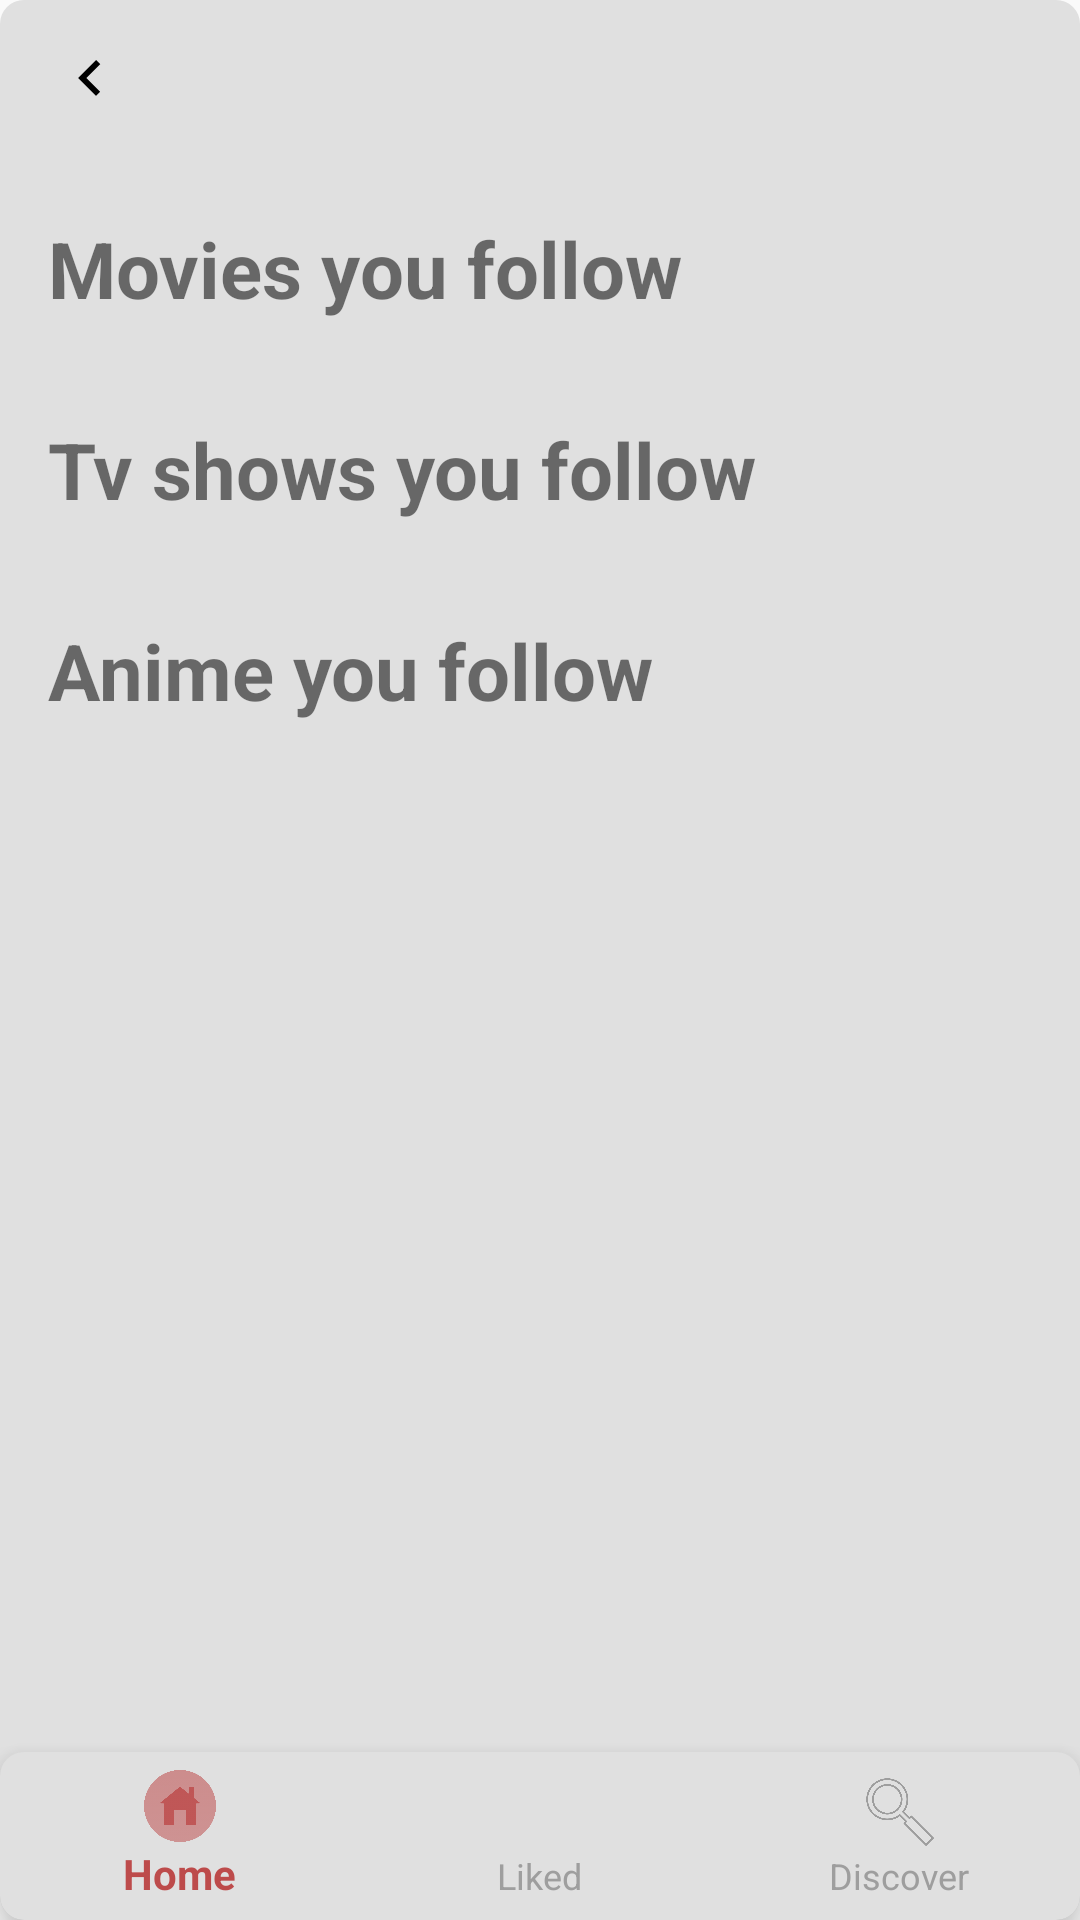

Where to tap for icons on this 1080 × 1920 app screen, as point (x, y):
arrow back: point (89, 78)
